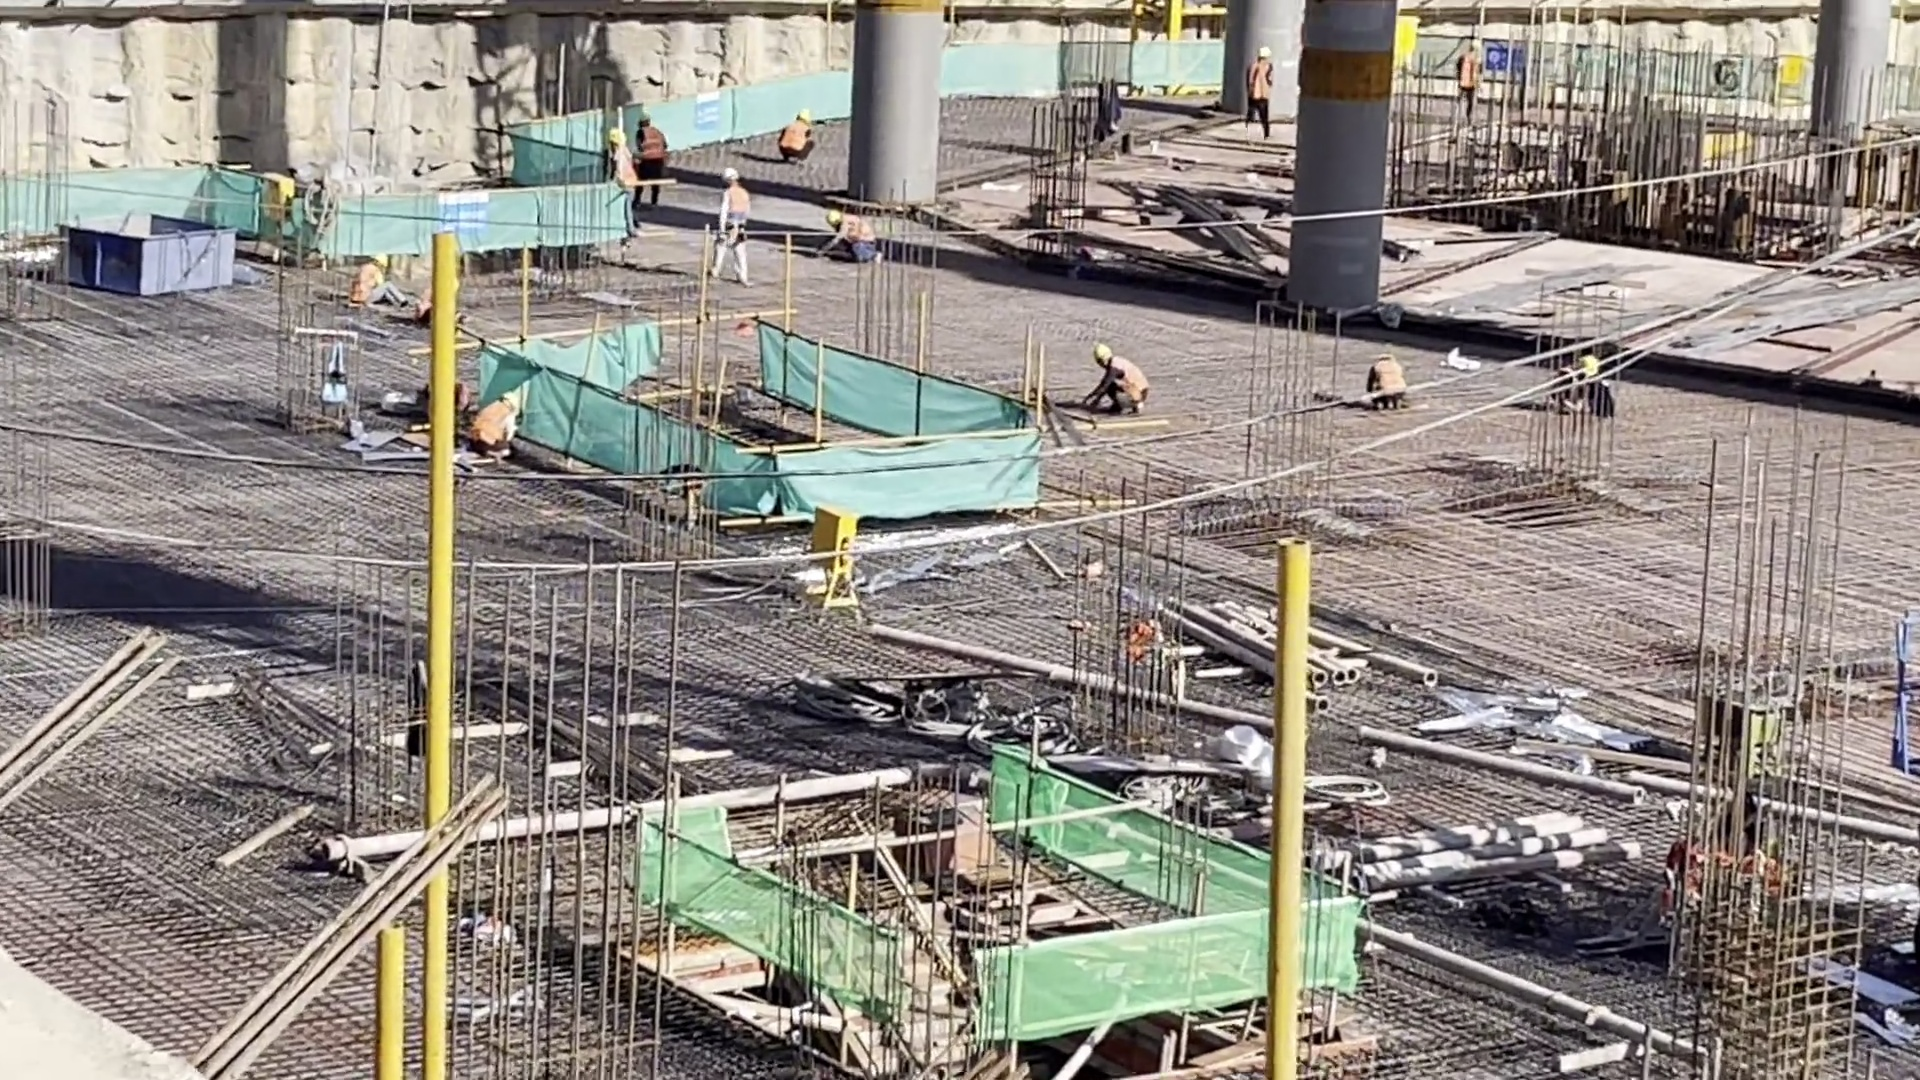ebox: (813, 507, 856, 601), (259, 169, 288, 222)
helmet: (602, 126, 625, 147), (1578, 355, 1596, 376), (371, 251, 389, 269), (1092, 344, 1113, 358), (721, 166, 738, 182), (502, 392, 516, 412), (797, 108, 811, 122), (1258, 46, 1270, 59)
hopper: (61, 214, 233, 293)
person: (1079, 342, 1151, 416), (713, 165, 754, 288), (469, 385, 519, 461), (598, 124, 639, 212), (633, 112, 667, 214), (824, 211, 879, 265), (1363, 353, 1413, 411), (350, 253, 406, 303), (781, 107, 819, 170), (1454, 35, 1481, 126), (1247, 49, 1271, 135)
slogan: (439, 195, 496, 235), (690, 89, 724, 134)
vest: (467, 404, 509, 446), (1112, 365, 1146, 403), (354, 265, 381, 301), (1374, 360, 1401, 396), (725, 185, 750, 222), (642, 120, 662, 161), (781, 123, 806, 153), (1250, 64, 1269, 103), (1461, 50, 1477, 91)
